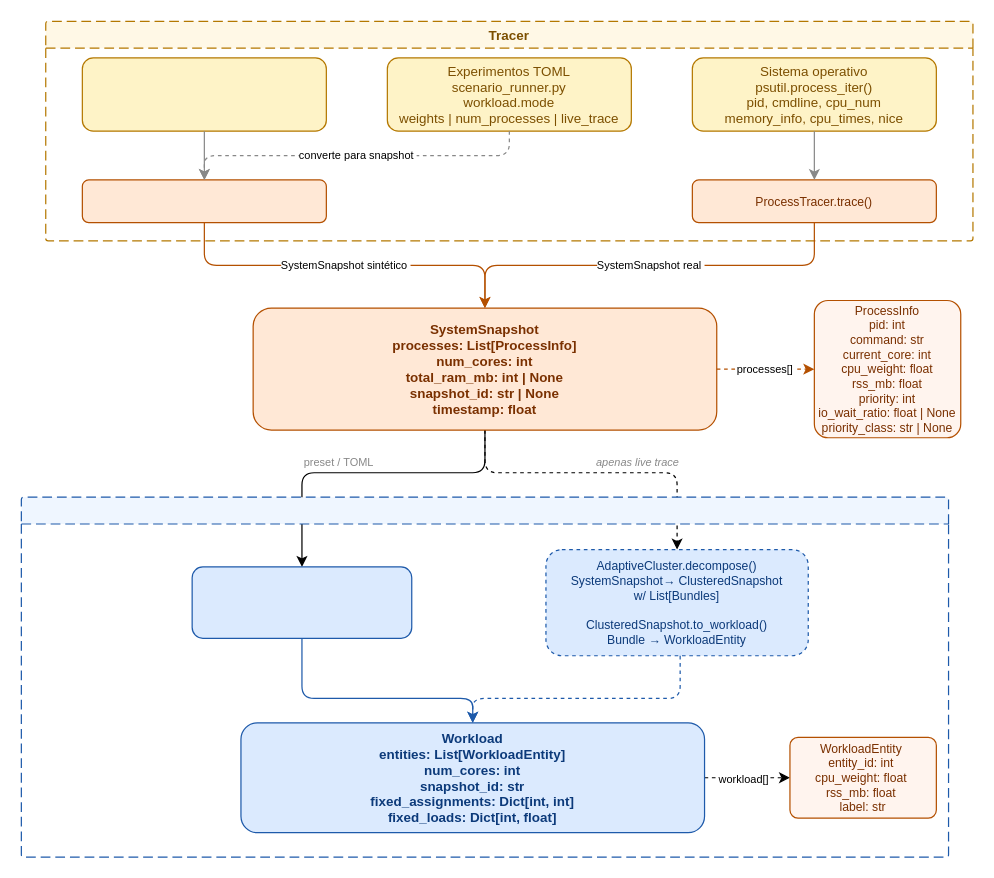
Image size: 994x878. Some labels were removed from this diagram. Each missing label, with the box of its shape:
build_preset_snapshot(): (81, 179, 326, 223)
Conversão para Workload: (20, 496, 949, 857)
Preset / testes weights: list[float] num_cores: int: (81, 57, 326, 131)
SystemSnapshot.to_workload() SystemSnapshot → WorkloadEntity: (191, 566, 412, 638)
